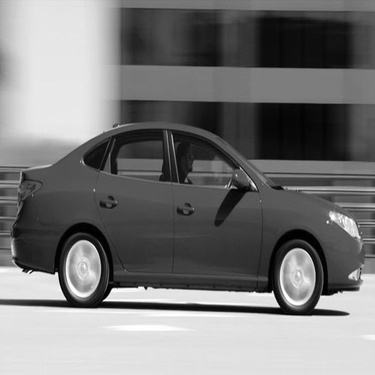car: (7, 115, 367, 319)
